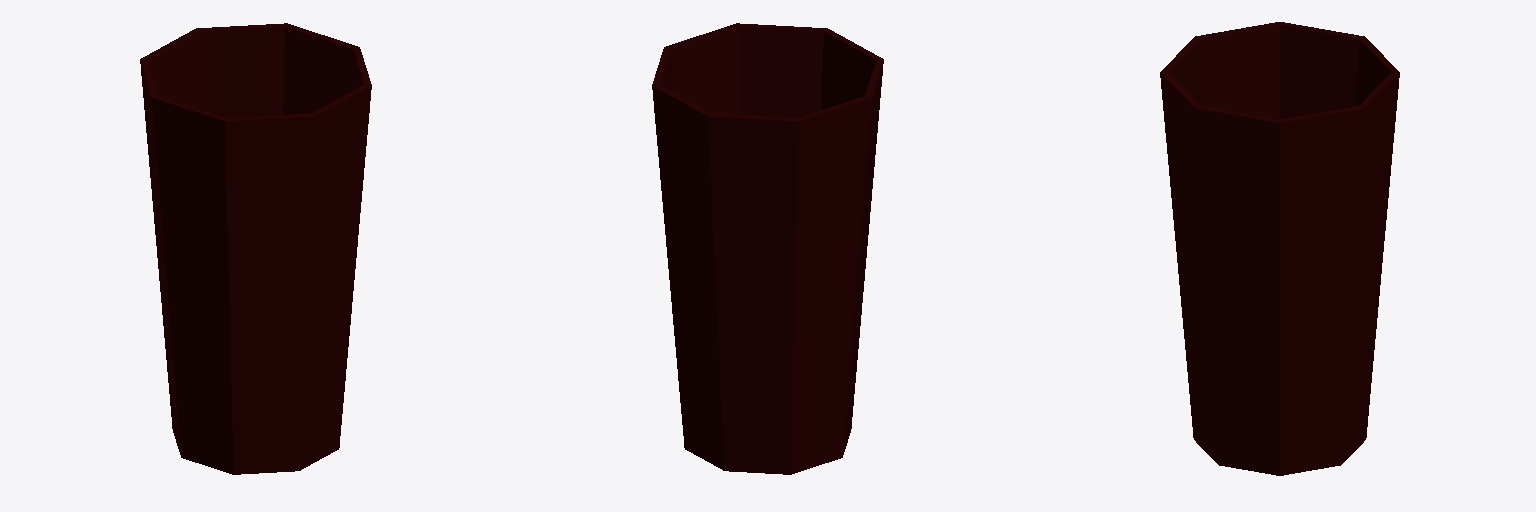
The model's file is PlasticCup1.obj.
3 renders of one model, left to right at view 1: azimuth 30°, elevation 25°; view 2: azimuth 150°, elevation 25°; view 3: azimuth 270°, elevation 25°, orthographic.
Parts seen in each view (by area): view 1: PlasticCup1_Cylinder; view 2: PlasticCup1_Cylinder; view 3: PlasticCup1_Cylinder.
Part boxes in pixels (left/top/right/bottom): PlasticCup1_Cylinder: left=140, top=23, right=371, bottom=474; PlasticCup1_Cylinder: left=652, top=23, right=883, bottom=474; PlasticCup1_Cylinder: left=1160, top=22, right=1399, bottom=475.
Size of the model in its own units: 0.1436 by 0.2425 by 0.1436.